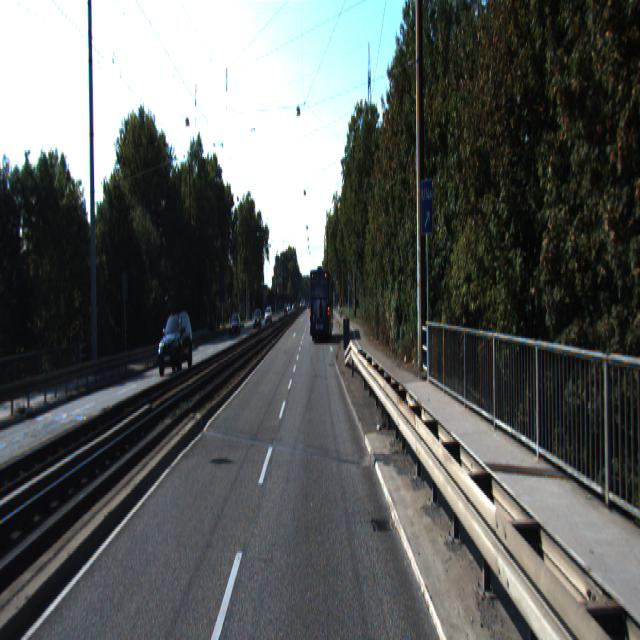Car: (157, 311, 194, 378), (310, 268, 335, 343)
